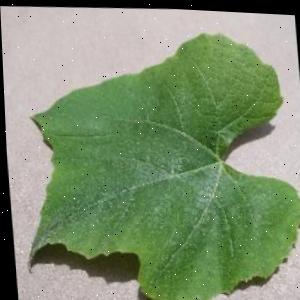Folha: (7, 18, 300, 300)
